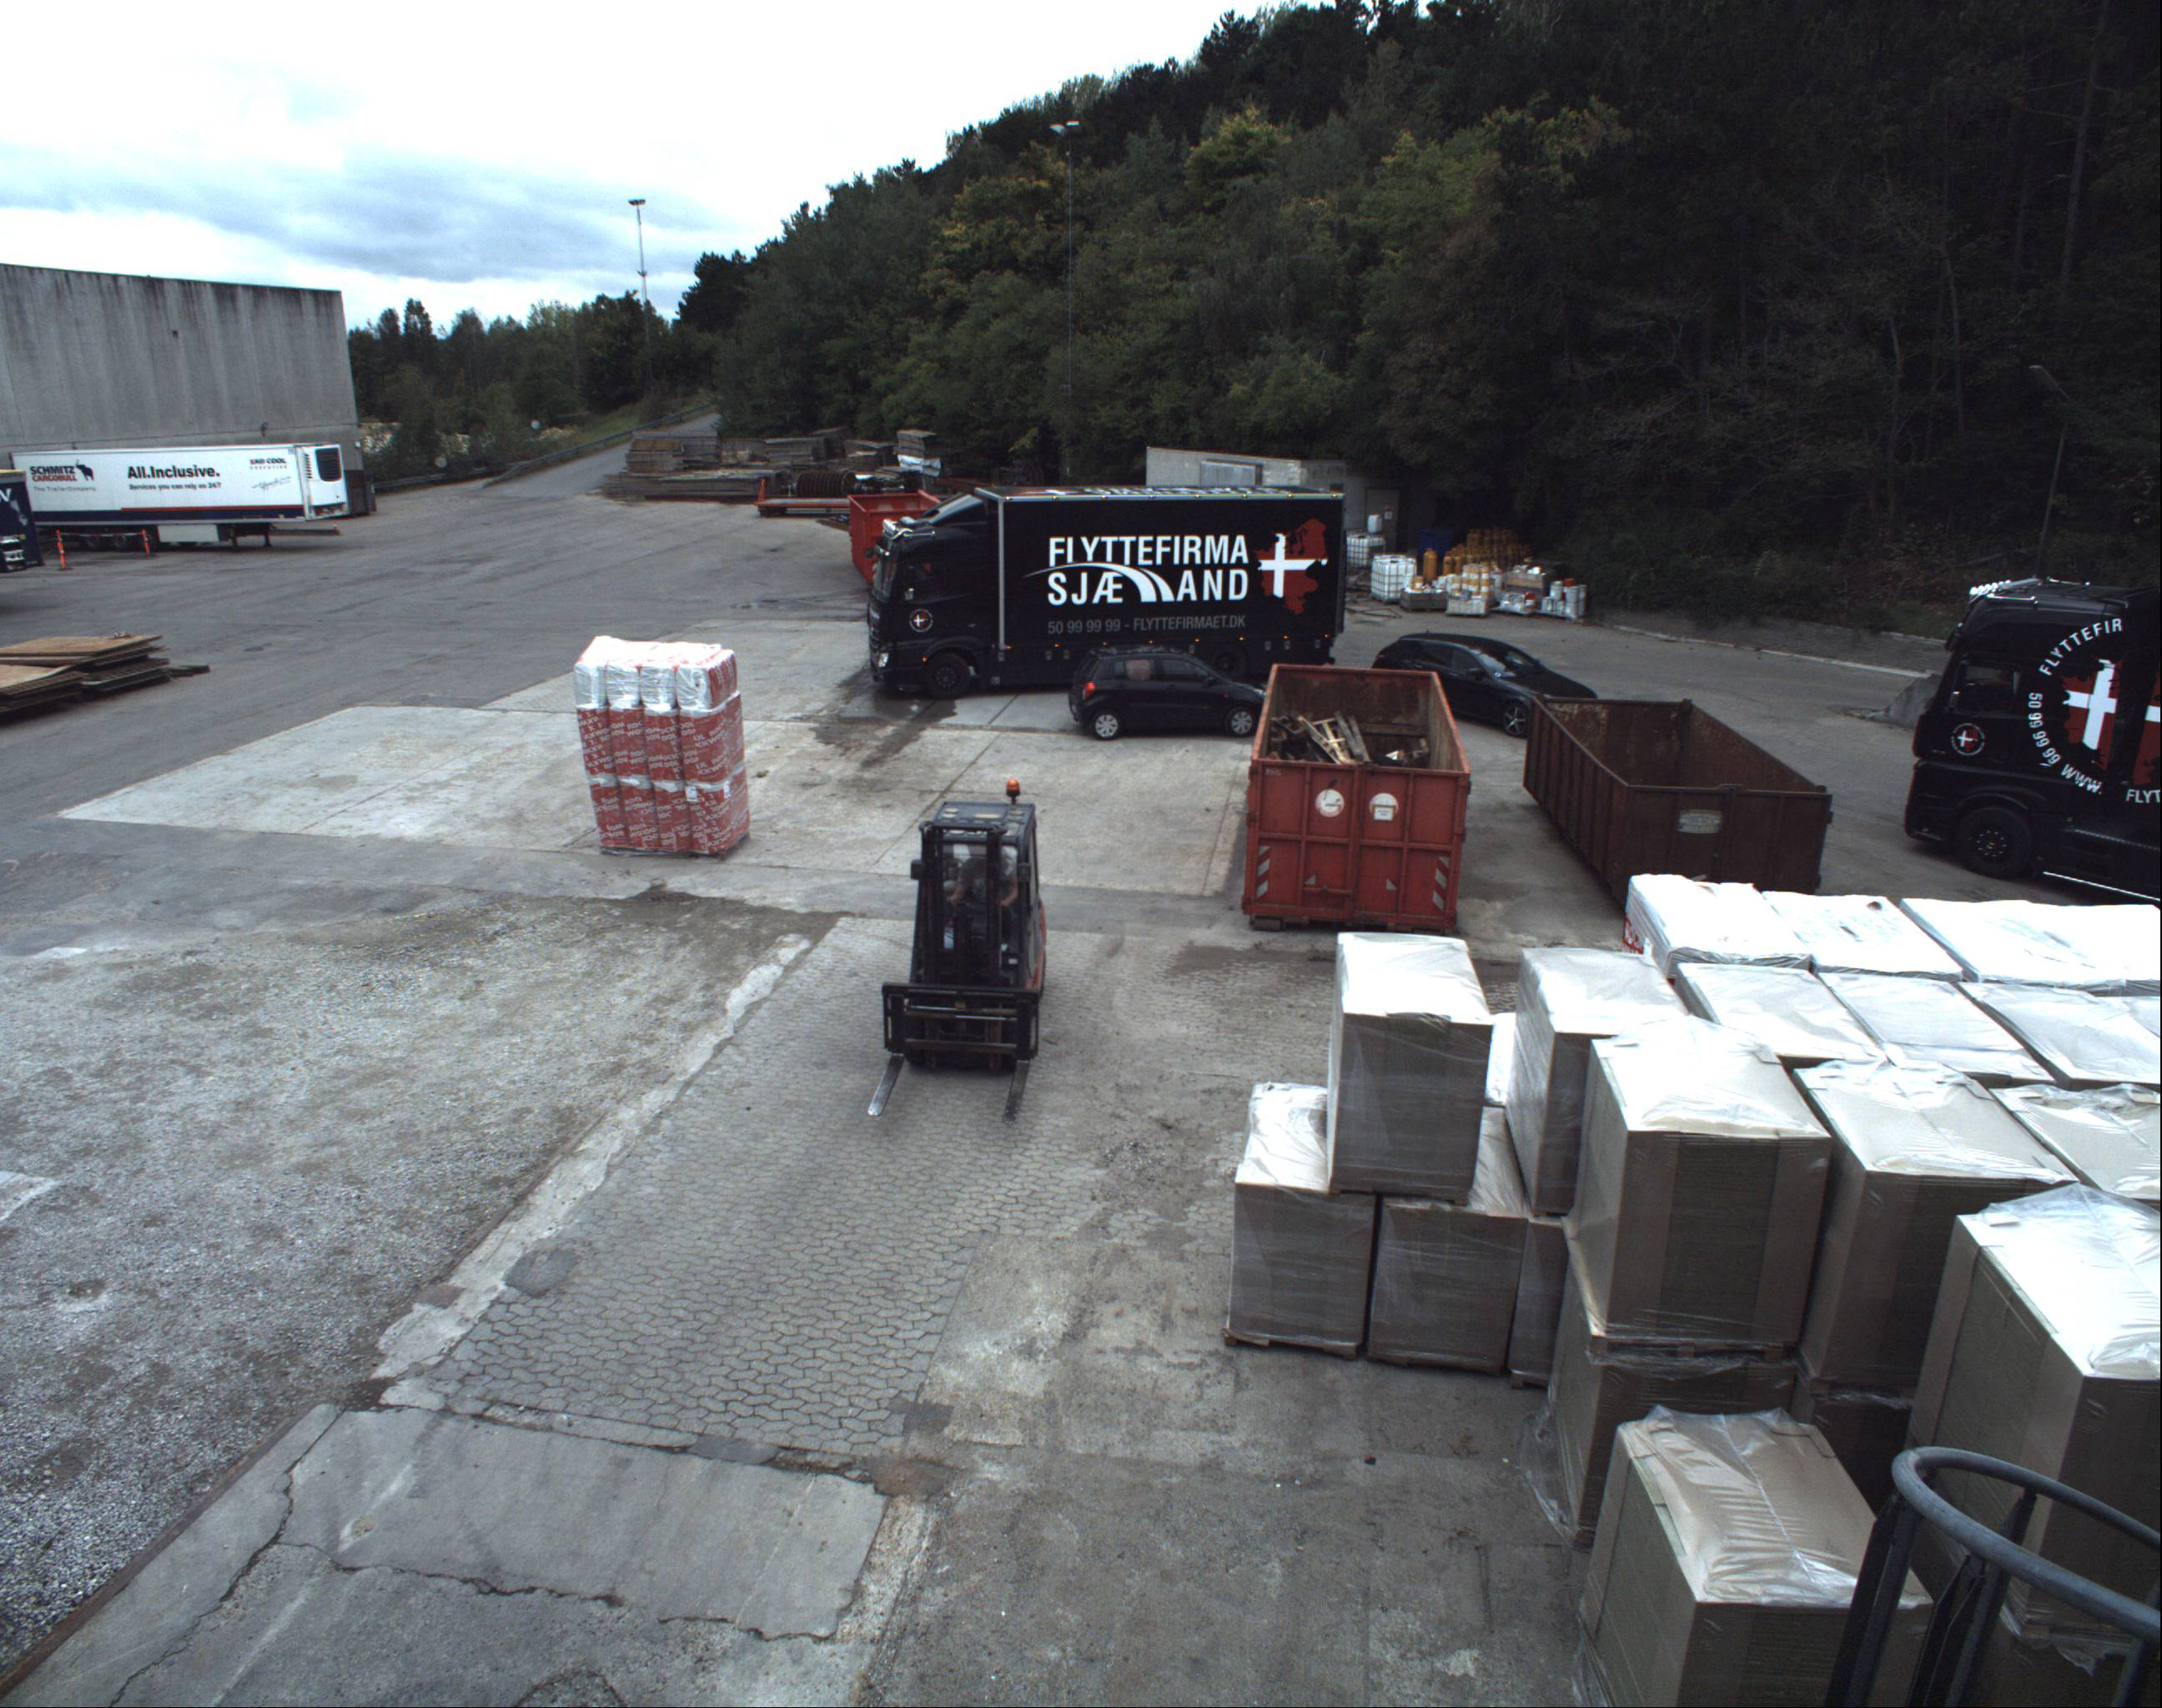rockwool_batts: (572, 641, 760, 853)
